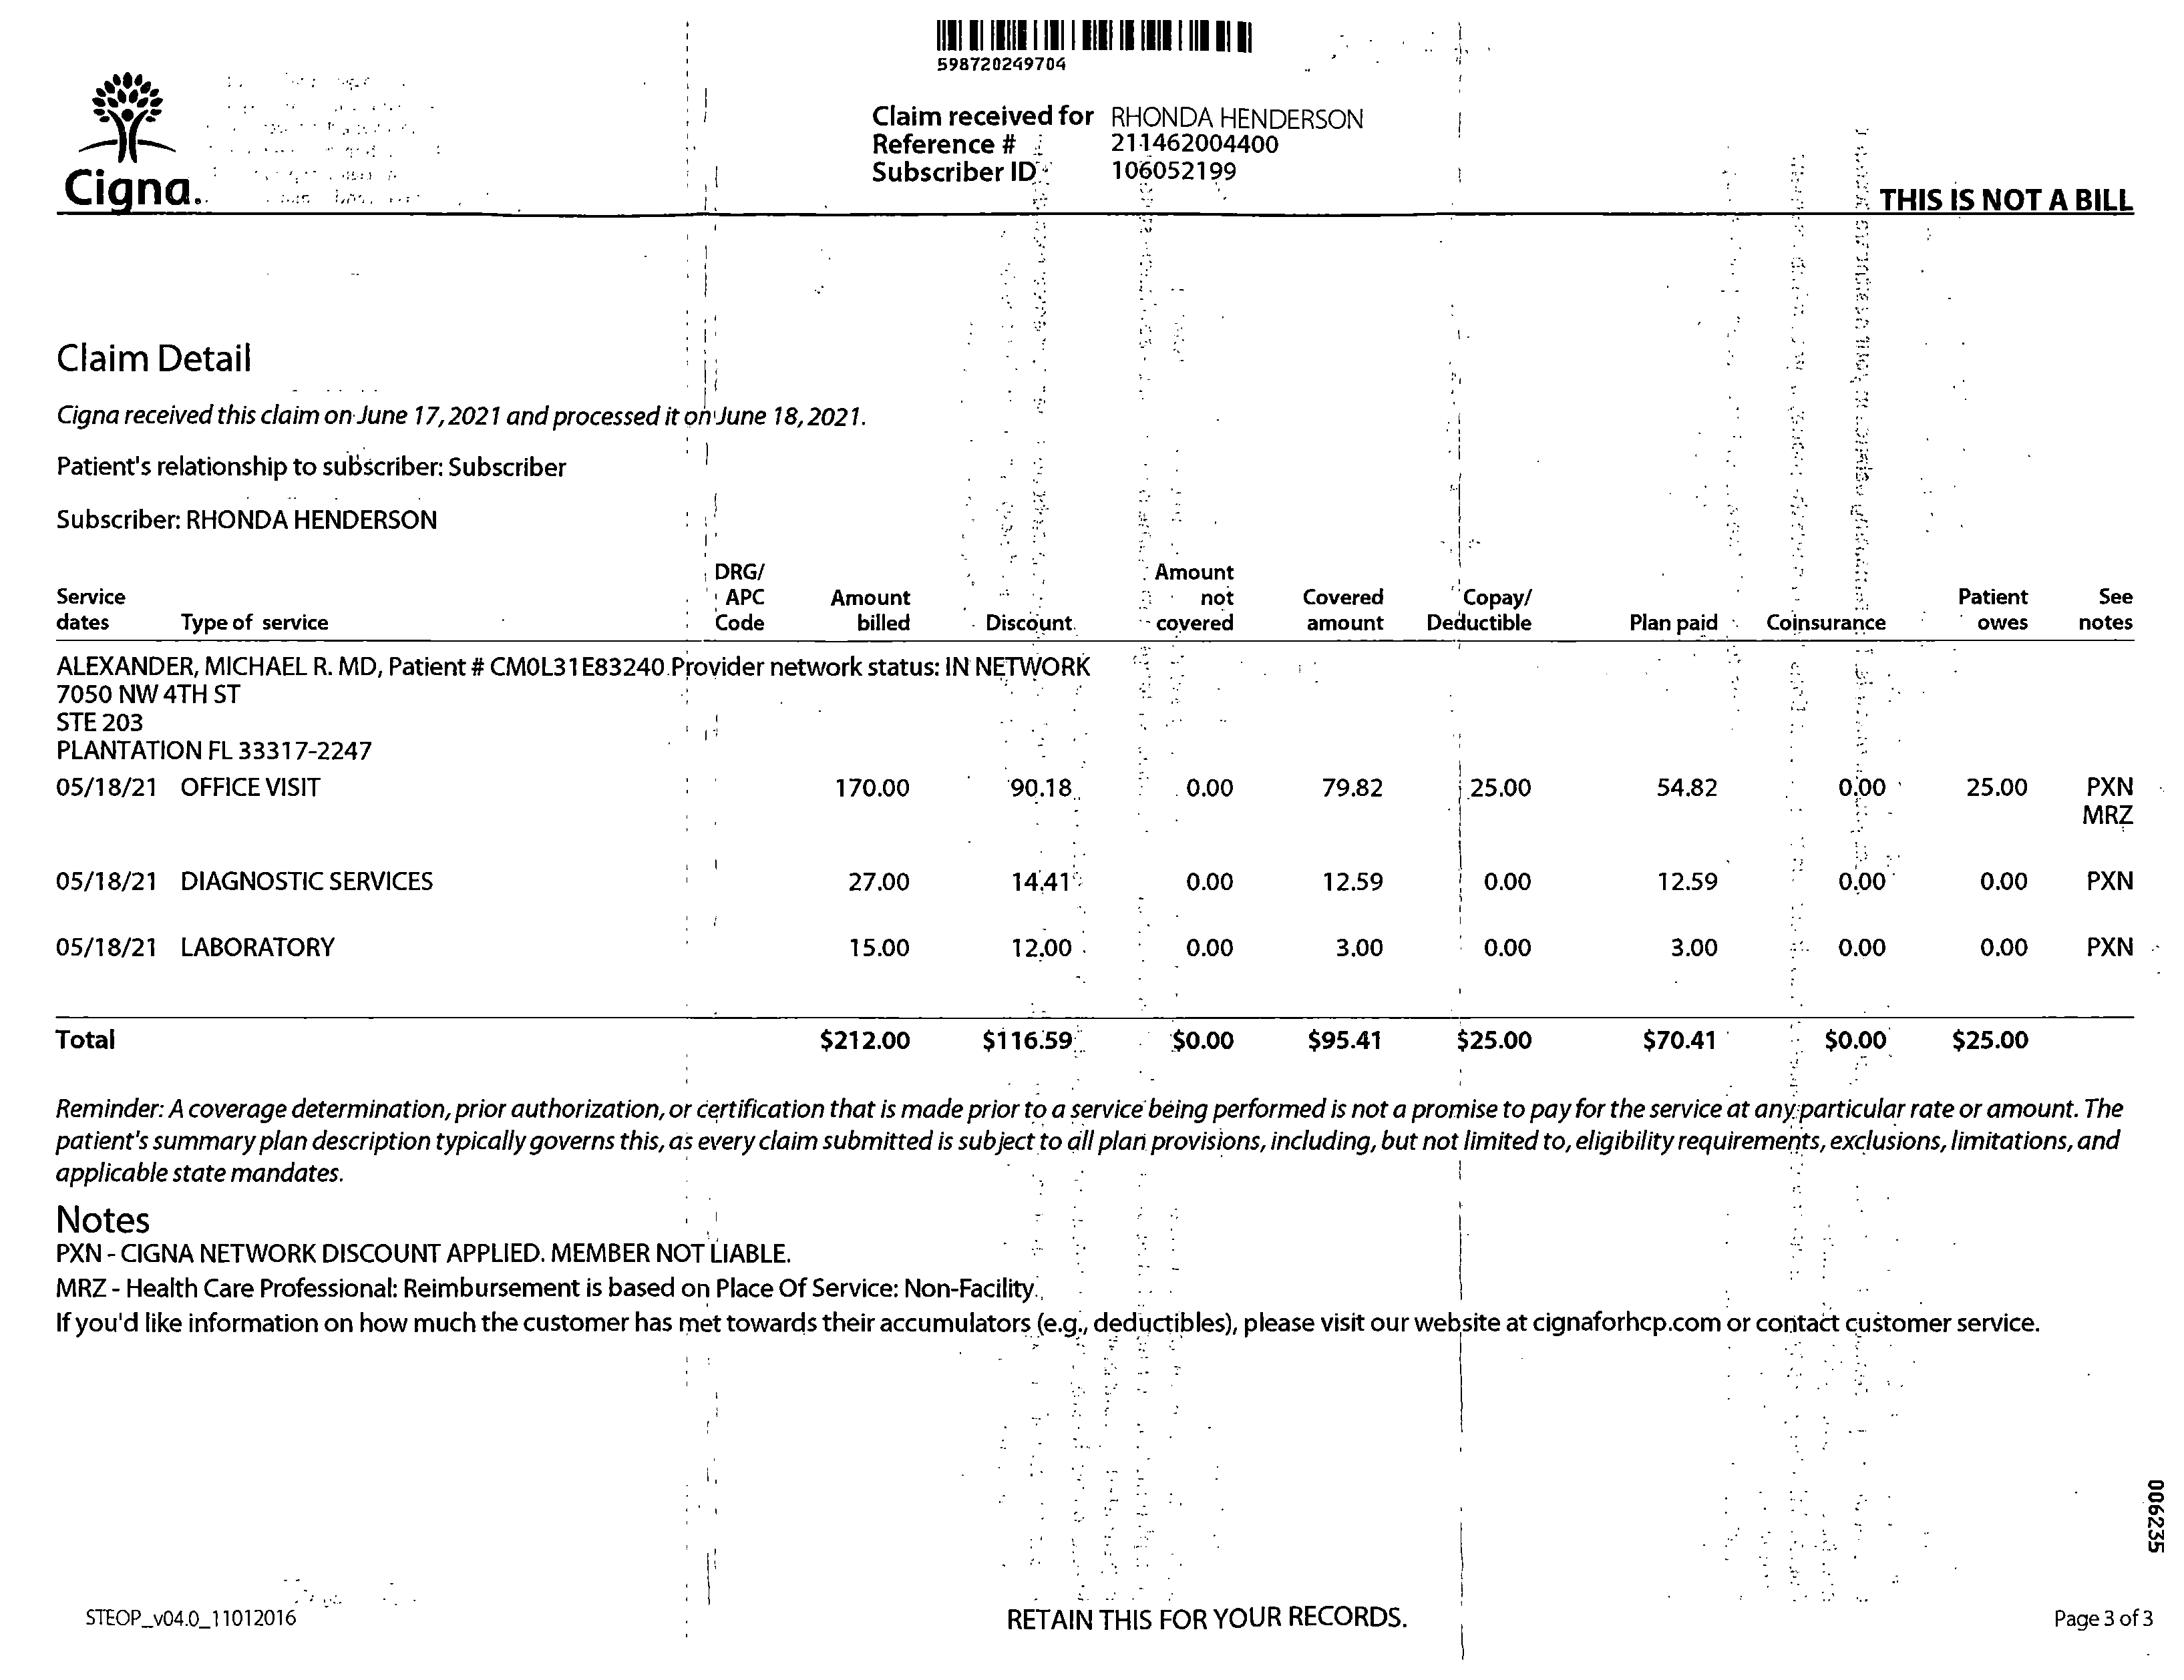table: (37, 556, 2147, 1082)
